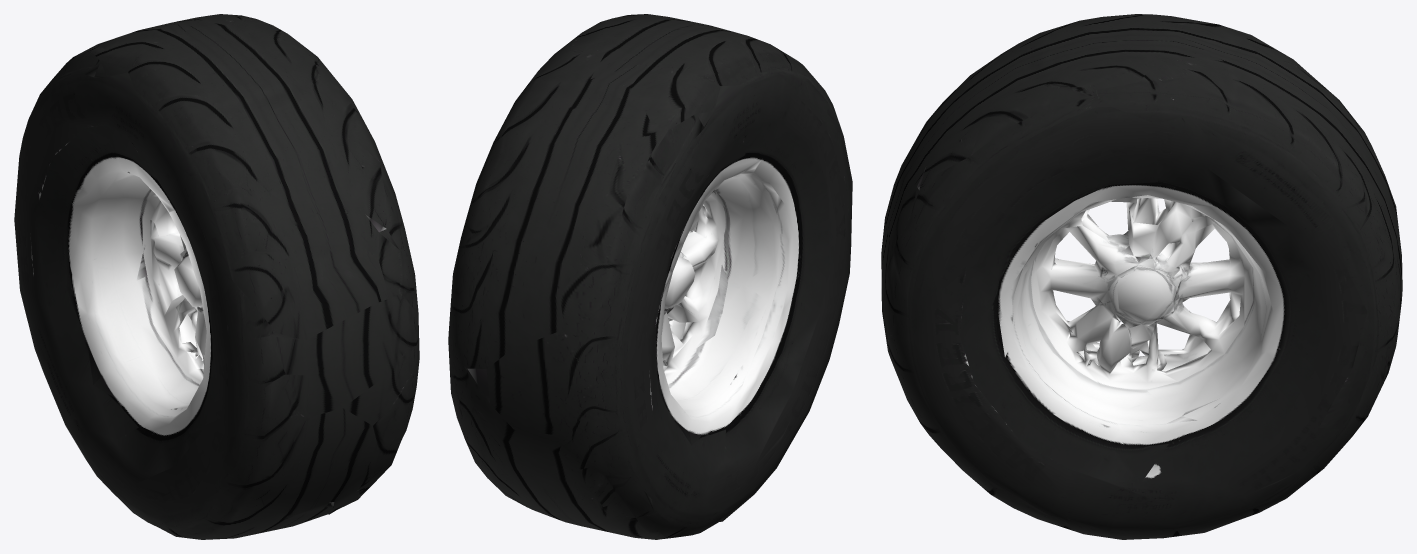
The model's file is musclecar_wheel.obj.
The picture shows the model from 3 angles, left to right: view 1: azimuth 30°, elevation 25°; view 2: azimuth 150°, elevation 25°; view 3: azimuth 270°, elevation 25°; orthographic projection.
Parts seen in each view (by area): view 1: wheel; view 2: wheel; view 3: wheel.
Boxes of the visible parts, bbox=[...] form: wheel: bbox=[14, 14, 419, 539]; wheel: bbox=[448, 14, 852, 539]; wheel: bbox=[881, 14, 1402, 539].
Bounding box in the file's own units: 0.2889 × 0.6971 × 0.6975.
